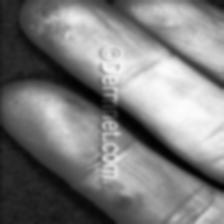Unclassified: (28, 4, 69, 38), (107, 196, 125, 212)
